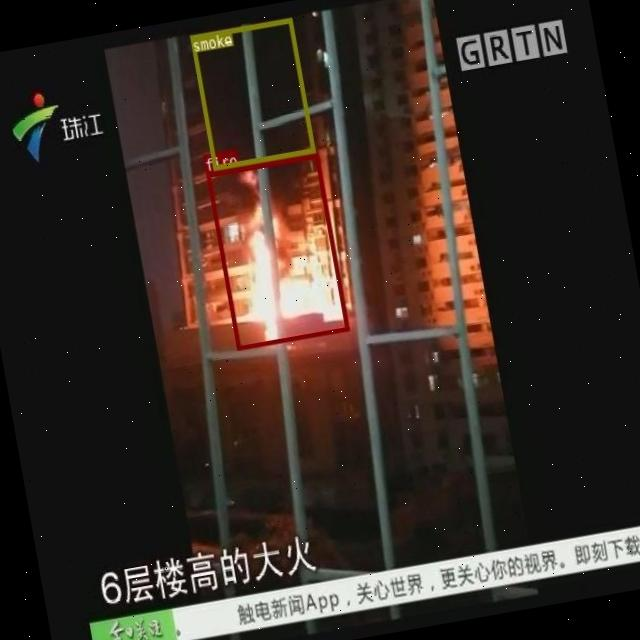fire: (205, 152, 348, 349)
smoke: (188, 17, 314, 168)
